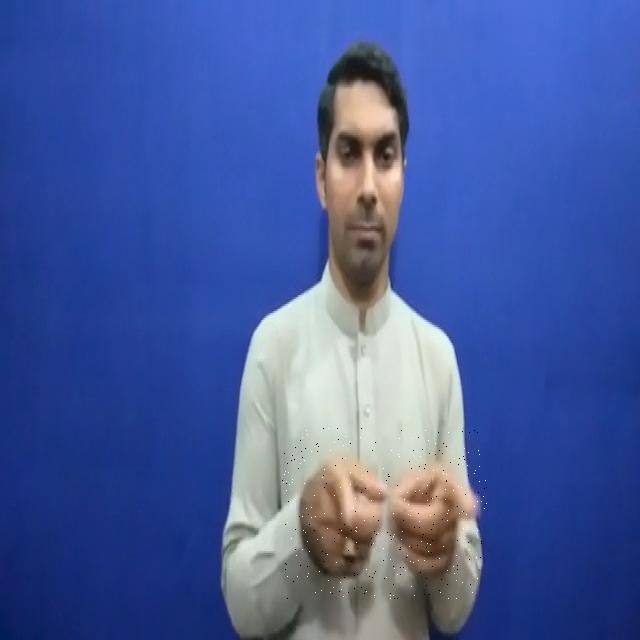sweet: (282, 428, 488, 600)
